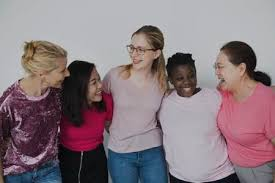person: (124, 36, 182, 106), (15, 36, 66, 114), (210, 44, 260, 113), (66, 54, 106, 140), (168, 52, 213, 128)
